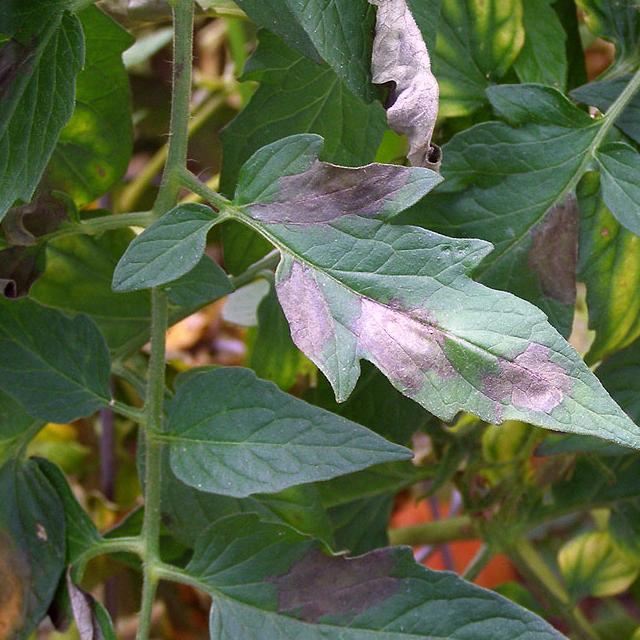Tomato leaf late blight: (216, 158, 640, 440), (172, 532, 608, 640), (0, 0, 92, 391), (573, 200, 640, 444), (0, 430, 69, 640)
